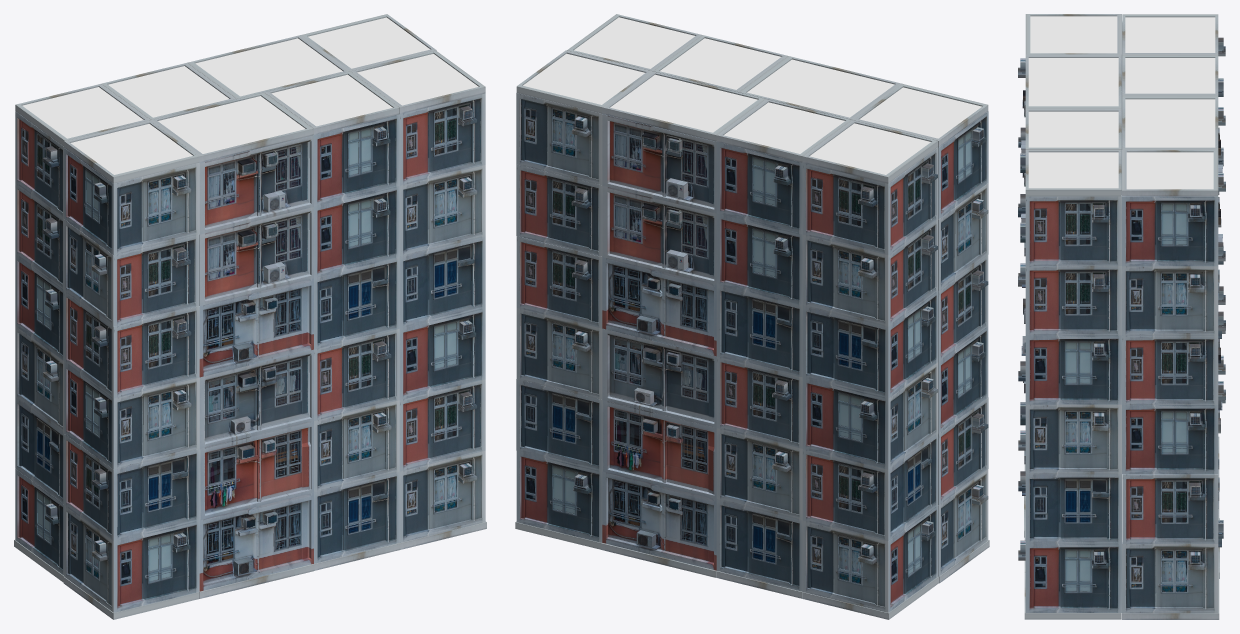
The model's file is Montane_model_instances_ani_01.glb.
3 renders of one model, left to right at view 1: azimuth 30°, elevation 25°; view 2: azimuth 150°, elevation 25°; view 3: azimuth 270°, elevation 25°, orthographic. The views are drawn at different scales.
Parts seen in each view (by area): view 1: 00_roof_corner_02, 00_roof_large, 00_roof_corner_01, 00_roof_small, 00_floor_corner.001, 00_corner_04.001, 00_corner, 00_corner_01.001, 00_corner_02.002, 00_floor_large, 00_middle_large_02, 00_middle_large_01 (+21 smaller); view 2: 00_roof_corner_01.001, 00_roof_large.001, 00_roof_small.001, 00_roof_corner_02.001, 00_floor_corner.002, 00_corner_02.001, 00_corner_03.001, 00_corner_04.002, 00_corner_01.002, 00_floor_large.001, 00_middle_large_02.001, 00_middle_large_01.001 (+21 smaller); view 3: 00_roof_corner_01, 00_roof_corner_02.001, 00_floor_corner, 00_floor_corner.003, 00_corner_02, 00_corner_04.003, 00_corner.001, 00_corner_02.003, 00_corner_01, 00_corner_04, 00_corner_01.003, 00_corner_03 (+6 smaller).
Boxes of the visible parts, box(x1,y1,x2,y2) form: 00_roof_corner_02: box(64, 120, 199, 255); 00_roof_large: box(150, 92, 313, 234); 00_roof_corner_01: box(350, 50, 485, 185); 00_roof_small: box(265, 71, 399, 206); 00_floor_corner.001: box(63, 505, 199, 619); 00_corner_04.001: box(64, 219, 199, 326); 00_corner: box(64, 291, 199, 398); 00_corner_01.001: box(64, 434, 199, 541); 00_corner_02.002: box(64, 362, 199, 469); 00_floor_large: box(199, 492, 314, 598); 00_middle_large_02: box(199, 349, 313, 448); 00_middle_large_01: box(199, 421, 313, 520); 00_roof_corner_01.001: box(802, 120, 938, 255); 00_roof_large.001: box(602, 71, 765, 213); 00_roof_small.001: box(716, 99, 851, 234); 00_roof_corner_02.001: box(516, 50, 650, 185); 00_floor_corner.002: box(802, 505, 938, 619); 00_corner_02.001: box(802, 362, 938, 469); 00_corner_03.001: box(802, 291, 938, 398); 00_corner_04.002: box(802, 219, 937, 326); 00_corner_01.002: box(802, 434, 937, 541); 00_floor_large.001: box(601, 471, 716, 577); 00_middle_large_02.001: box(602, 328, 716, 427); 00_middle_large_01.001: box(602, 400, 716, 499); 00_roof_corner_01: box(1018, 149, 1121, 265); 00_roof_corner_02.001: box(1122, 150, 1225, 266); 00_floor_corner: box(1018, 540, 1121, 619); 00_floor_corner.003: box(1122, 520, 1223, 619); 00_corner_02: box(1020, 402, 1121, 474); 00_corner_04.003: box(1122, 242, 1225, 335); 00_corner.001: box(1122, 311, 1225, 404); 00_corner_02.003: box(1122, 381, 1225, 474); 00_corner_01: box(1018, 471, 1121, 543); 00_corner_04: box(1018, 263, 1121, 335); 00_corner_01.003: box(1122, 459, 1219, 543); 00_corner_03: box(1024, 335, 1121, 404).
Size of the model in its own units: 24.33 by 26.6 by 11.67.
Materials: 13 (12 with a texture image).
